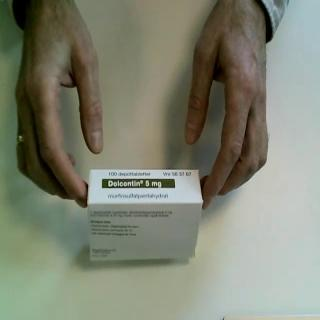dolcontin5mg: (87, 168, 205, 266)
